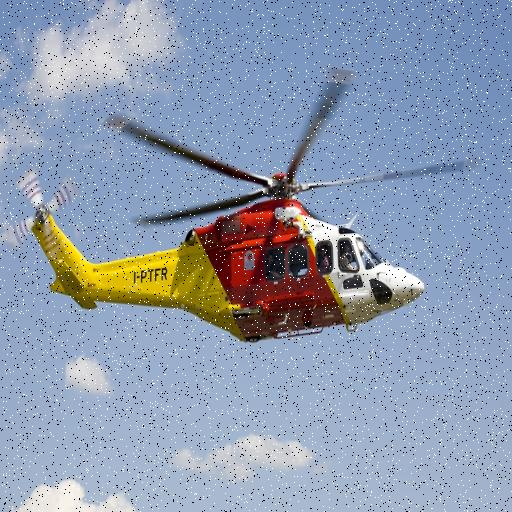helicopter: (4, 45, 489, 398)
